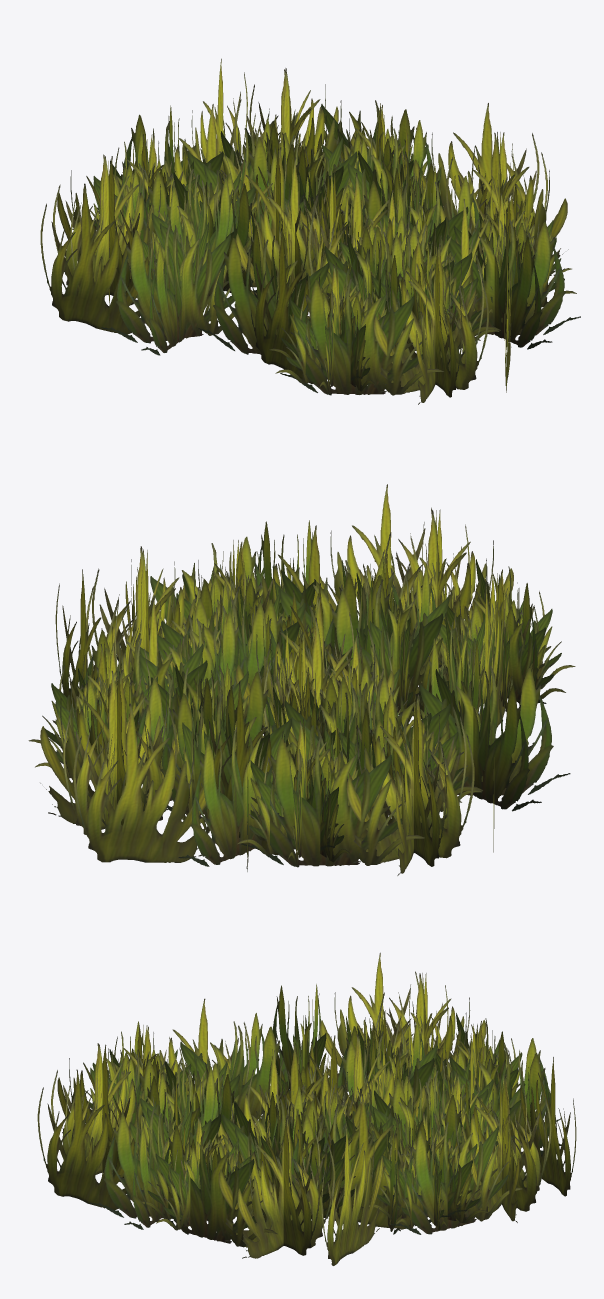
The model's file is stylized_handpainted_grass.glb.
3 views of the same model, one above another, from view 1: azimuth 30°, elevation 25°; view 2: azimuth 150°, elevation 25°; view 3: azimuth 270°, elevation 25° (orthographic). The views are drawn at different scales.
Visible parts, largest first — view 1: grass3_0; view 2: grass3_0; view 3: grass3_0.
Part boxes in pixels (x1,y1,x2,y2): grass3_0: (40,58,580,404); grass3_0: (28,484,575,875); grass3_0: (37,952,576,1265).
Size of the model in its own units: 2.36 by 0.7417 by 2.65.
1 material, 1 textured.
